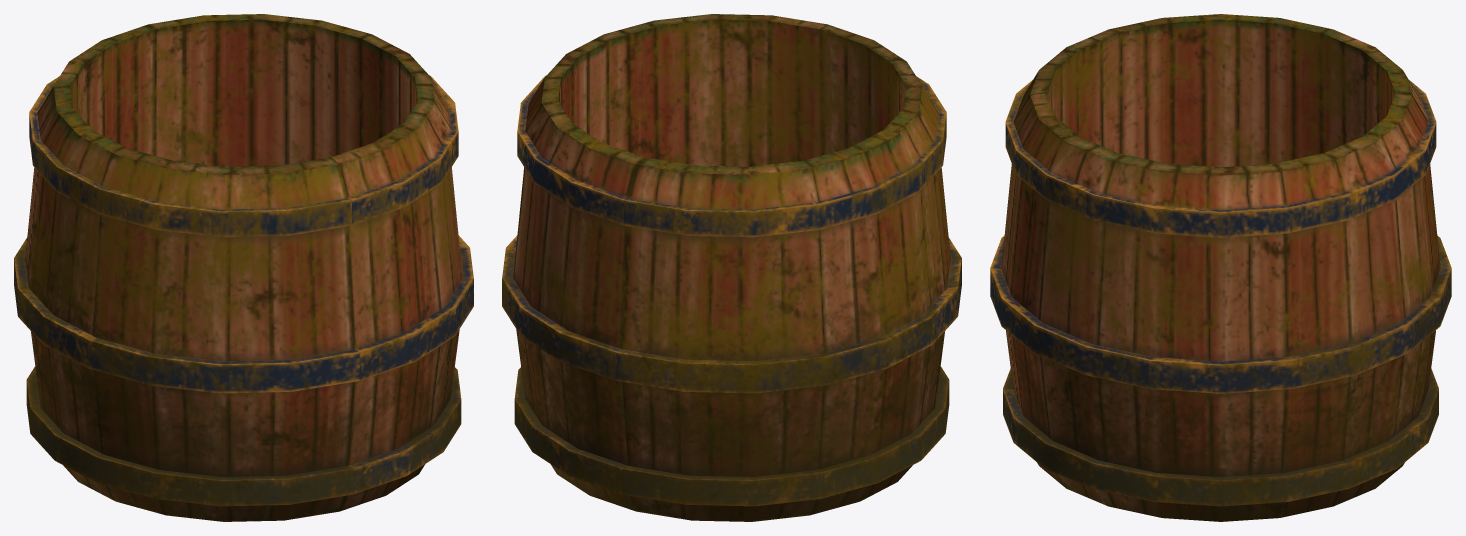
Rendered from Barrel.glb.
The picture shows the model from 3 angles, left to right: view 1: azimuth 30°, elevation 25°; view 2: azimuth 150°, elevation 25°; view 3: azimuth 270°, elevation 25°; orthographic projection.
Visible parts, largest first — view 1: Barell1_Barrel_Mat_0; view 2: Barell1_Barrel_Mat_0; view 3: Barell1_Barrel_Mat_0.
Boxes of the visible parts, <box> form: Barell1_Barrel_Mat_0: <box>14,14,473,521</box>; Barell1_Barrel_Mat_0: <box>502,14,961,521</box>; Barell1_Barrel_Mat_0: <box>990,14,1451,521</box>.
Bounding box in the file's own units: 1.2 × 1 × 1.2.
1 material, 1 textured.
